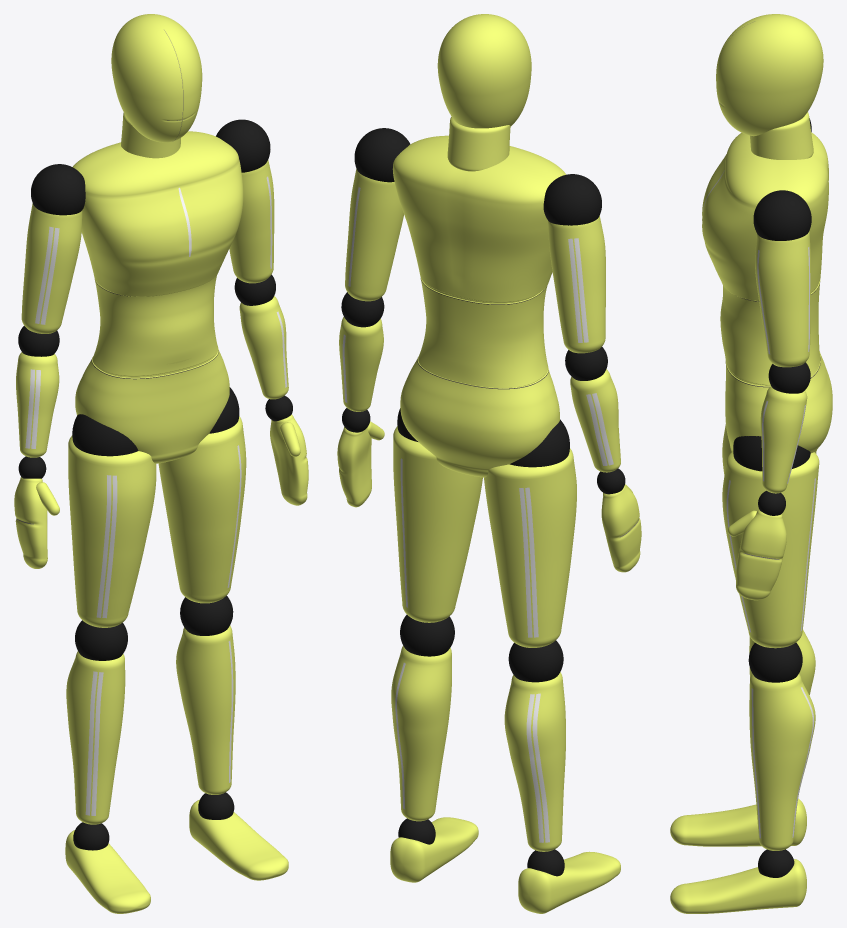
The model's file is person.glb.
3 renders of one model, left to right at view 1: azimuth 30°, elevation 25°; view 2: azimuth 150°, elevation 25°; view 3: azimuth 270°, elevation 25°, orthographic. The views are drawn at different scales.
Visible parts, largest first — view 1: geo_chest, geo_thigh_R, geo_thigh_L, geo_pelvis, geo_abdomen, geo_head, geo_shin_L, geo_shin_R, geo_upperArm_R, geo_upperArm_L, geo_foot_L, geo_foot_R (+19 smaller); view 2: geo_chest, geo_thigh_R, geo_pelvis, geo_thigh_L, geo_abdomen, geo_head, geo_shin_L, geo_shin_R, geo_upperArm_R, geo_upperArm_L, geo_foot_R, geo_foot_L (+18 smaller); view 3: geo_chest, geo_head, geo_thigh_L, geo_shin_L, geo_upperArm_L, geo_foot_L, geo_abdomen, geo_pelvis, geo_forearm_L, geo_foot_R, geo_hand_L, ball_shoulder_L (+8 smaller).
Part boxes in pixels (x1,y1,x2,y2): geo_chest: (72, 131, 243, 296); geo_thigh_R: (68, 435, 156, 627); geo_thigh_L: (158, 416, 246, 603); geo_pelvis: (75, 349, 229, 463); geo_abdomen: (92, 275, 218, 376); geo_head: (111, 14, 202, 142); geo_shin_L: (176, 625, 235, 794); geo_shin_R: (66, 651, 125, 824); geo_upperArm_R: (21, 203, 82, 333); geo_upperArm_L: (229, 160, 274, 283); geo_foot_L: (189, 799, 288, 880); geo_foot_R: (65, 830, 150, 913); geo_chest: (392, 135, 565, 302); geo_thigh_R: (484, 448, 576, 647); geo_pelvis: (400, 356, 559, 477); geo_thigh_L: (393, 426, 482, 622); geo_abdomen: (418, 278, 548, 387); geo_head: (437, 14, 531, 128); geo_shin_L: (391, 646, 451, 821); geo_shin_R: (504, 672, 565, 851); geo_upperArm_R: (547, 216, 605, 353); geo_upperArm_L: (345, 168, 403, 301); geo_foot_R: (518, 851, 620, 913); geo_foot_L: (390, 817, 478, 882); geo_chest: (702, 132, 828, 300); geo_head: (716, 14, 823, 136); geo_thigh_L: (722, 451, 819, 648); geo_shin_L: (749, 674, 815, 850); geo_upperArm_L: (755, 231, 810, 367); geo_foot_L: (670, 859, 806, 913); geo_abdomen: (720, 280, 820, 385); geo_pelvis: (725, 352, 832, 453); geo_forearm_L: (760, 386, 807, 493); geo_foot_R: (670, 798, 806, 846); geo_hand_L: (736, 509, 786, 600); ball_shoulder_L: (753, 190, 811, 240).
Size of the model in its own units: 0.6083 by 1.75 by 0.301.
